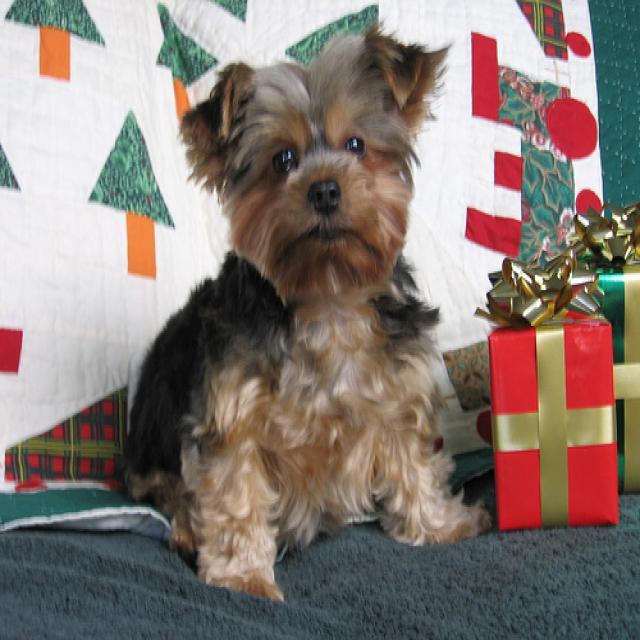dog-yorkshire_terrier: (111, 26, 485, 597)
